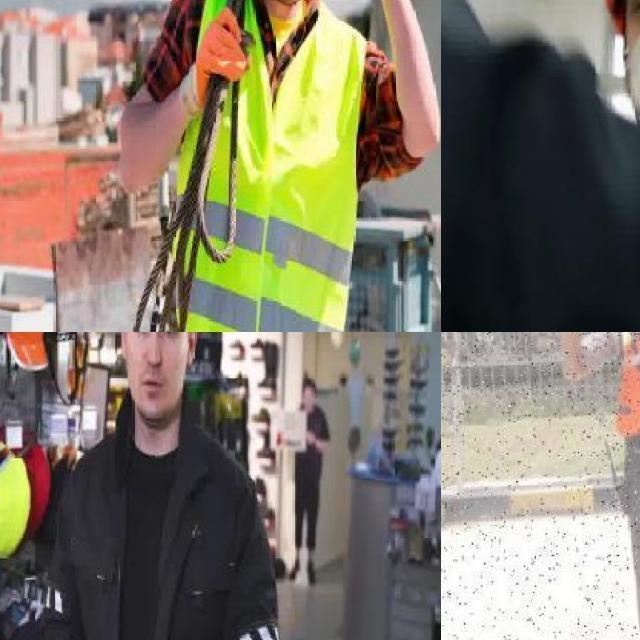apron: (177, 7, 251, 122)
